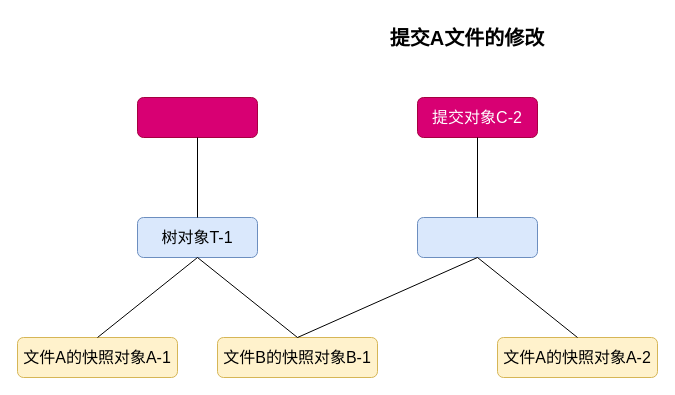
The diagram is 675 pixels wide and 395 high, and some of its shapes have lost their labels. Each missing label, with the centre of its shape:
"提交对象C-1" belongs at point (197, 117).
"树对象T-2" belongs at point (477, 237).
